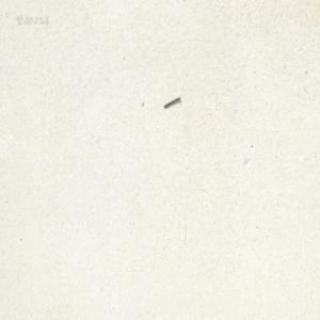Bolttrack_idkeyframe: (162, 93, 179, 106)
